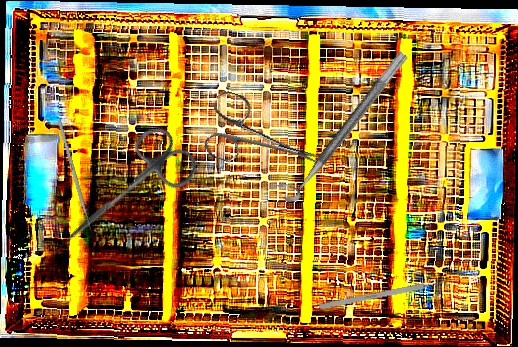Fixation Ring: (270, 40, 410, 207)
Hook Surgical: (318, 278, 450, 310)
Iris Scissors: (46, 119, 204, 268), (198, 88, 333, 191)
Pusher: (56, 119, 95, 237)
